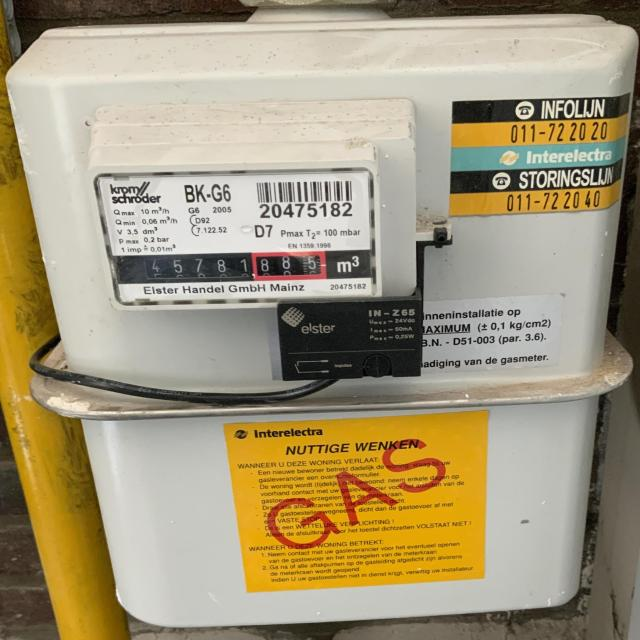gaz_meter: (96, 170, 378, 300)
indication: (136, 250, 327, 286)
